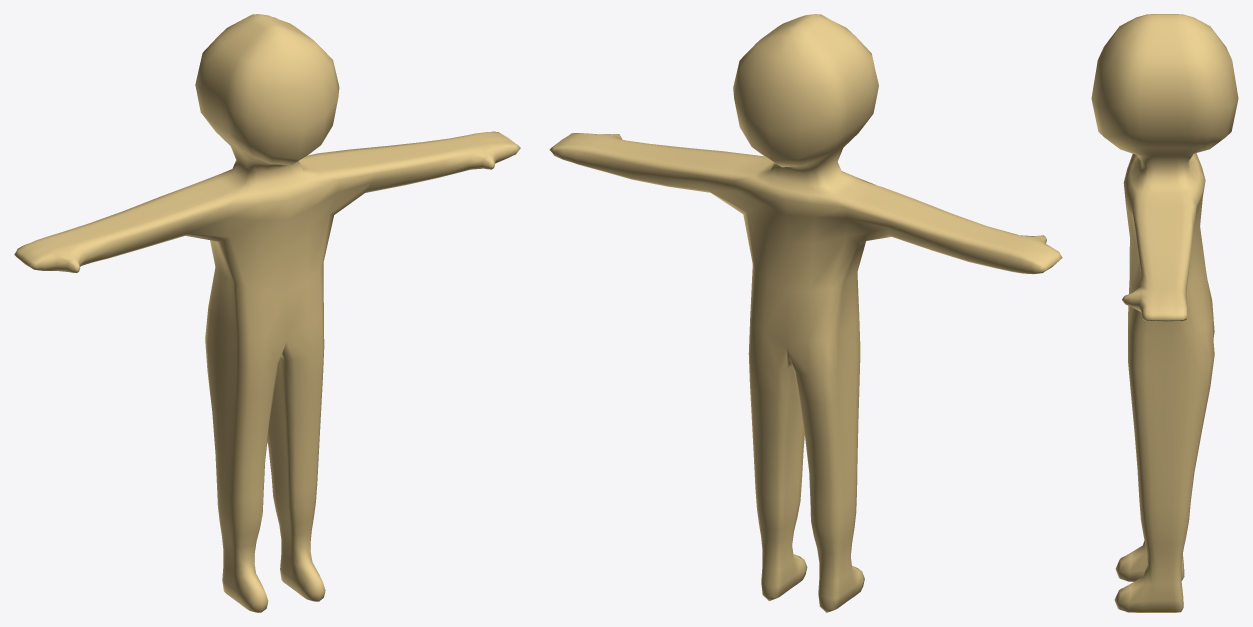
The model's file is karakter son.fbx.
3 views of the same model, side by side, from view 1: azimuth 30°, elevation 25°; view 2: azimuth 150°, elevation 25°; view 3: azimuth 270°, elevation 25° (orthographic).
Visible parts, largest first — view 1: Cube; view 2: Cube; view 3: Cube.
Part boxes in pixels (x1,y1,x2,y2): Cube: [14, 14, 520, 612]; Cube: [549, 14, 1062, 612]; Cube: [1091, 14, 1238, 612].
Size of the model in its own units: 1081 by 1212 by 277.
